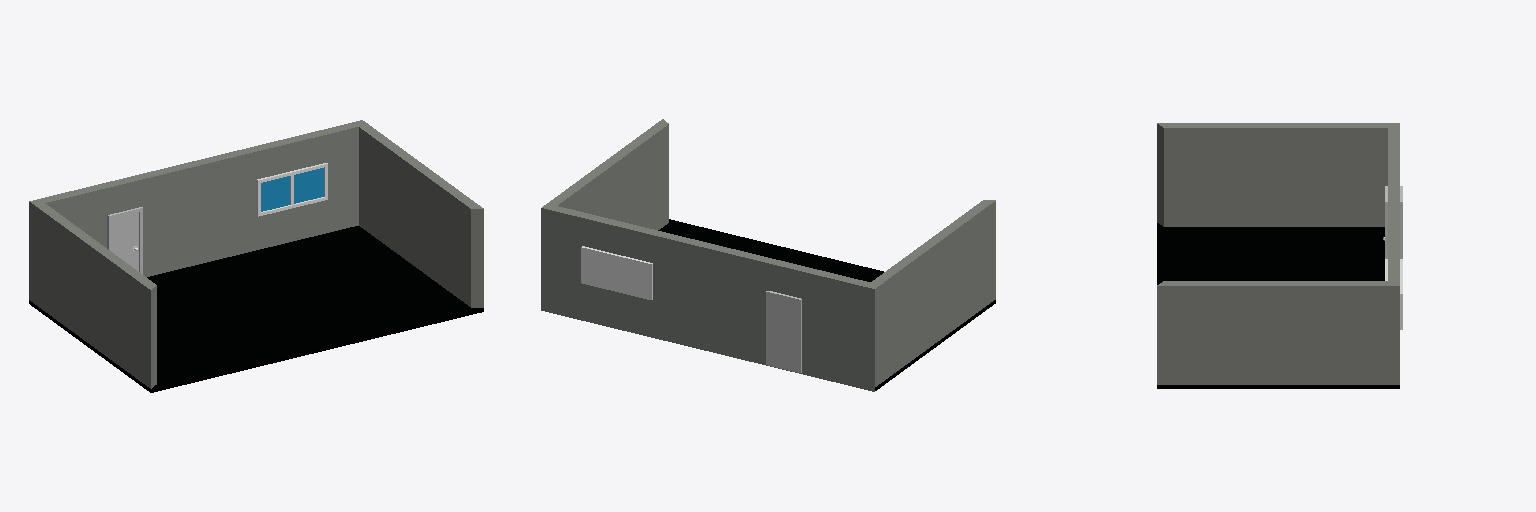
File: room.obj
3 views of the same model, side by side, from view 1: azimuth 30°, elevation 25°; view 2: azimuth 150°, elevation 25°; view 3: azimuth 270°, elevation 25° (orthographic).
Visible parts, largest first — view 1: walls, floor, glass, door, window_frame, door_frame; view 2: walls, floor, window_frame, door_frame; view 3: walls, floor.
Boxes of the visible parts, x1=… form: walls: x1=29, y1=120, x2=483, y2=388; floor: x1=29, y1=226, x2=483, y2=392; glass: x1=261, y1=168, x2=323, y2=211; door: x1=112, y1=212, x2=138, y2=271; window_frame: x1=257, y1=163, x2=327, y2=216; door_frame: x1=107, y1=207, x2=142, y2=274; walls: x1=541, y1=119, x2=995, y2=391; floor: x1=658, y1=219, x2=995, y2=390; window_frame: x1=581, y1=246, x2=652, y2=299; door_frame: x1=766, y1=291, x2=801, y2=372; walls: x1=1157, y1=123, x2=1399, y2=384; floor: x1=1157, y1=223, x2=1399, y2=388.
Size of the model in its own units: 21.2 by 6.25 by 13.57.